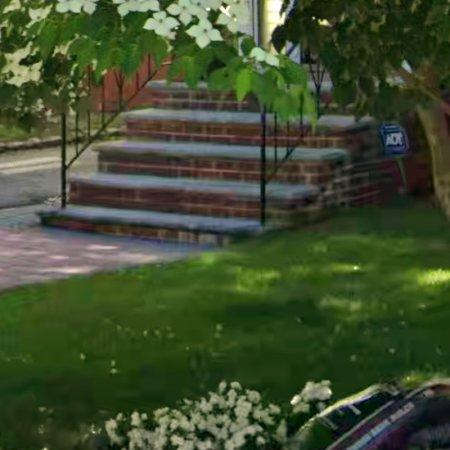stairs: (41, 80, 407, 246)
